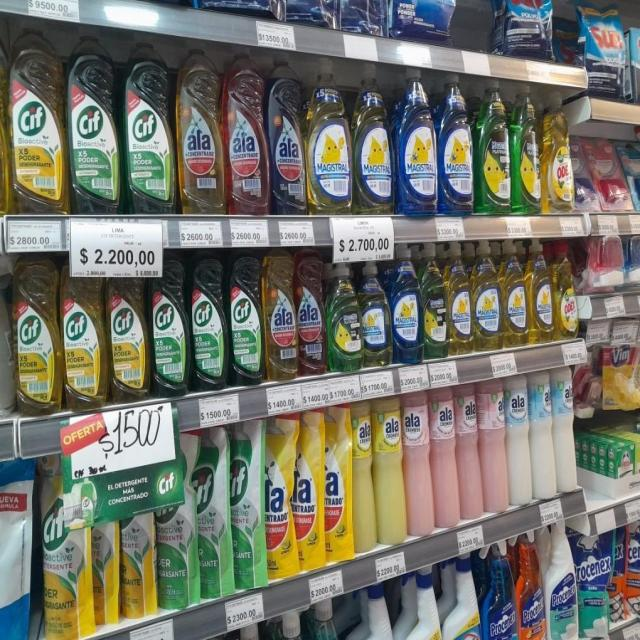ala_conc_amarillo: (176, 46, 224, 214), (265, 252, 297, 381)
ala_conc_azul: (269, 52, 305, 216)
ala_conc_rojo: (226, 49, 268, 217), (298, 255, 326, 376)
ala_crem_amarillo: (375, 394, 404, 546), (352, 400, 375, 554)
ala_crem_blanco: (506, 372, 530, 506), (530, 369, 554, 500), (553, 364, 576, 495)
ala_crem_rosado: (404, 389, 432, 538), (480, 376, 507, 514), (456, 381, 481, 523), (432, 384, 456, 530)
ala_sachet_amarillo: (266, 413, 294, 578), (295, 408, 323, 570), (324, 404, 352, 562)
cif_conc_bot_amarilla: (8, 21, 66, 214), (14, 264, 60, 414), (62, 264, 106, 410), (108, 265, 148, 401), (0, 12, 7, 215)
cif_conc_botella_verde: (68, 29, 120, 214), (124, 34, 174, 214), (150, 256, 189, 397), (190, 256, 227, 391), (229, 254, 263, 386)
cif_conc_sachet_amarillo: (42, 454, 88, 639)
cif_conc_sachet_verde: (198, 425, 232, 598), (232, 418, 264, 588)
magistral_con_amarillo: (307, 57, 351, 215), (353, 63, 393, 214), (362, 260, 391, 367), (472, 245, 500, 352), (447, 249, 472, 355), (502, 245, 527, 347), (528, 243, 552, 343)
magistral_con_azul: (438, 73, 474, 214), (392, 258, 421, 364)
odex: (542, 90, 572, 214)
